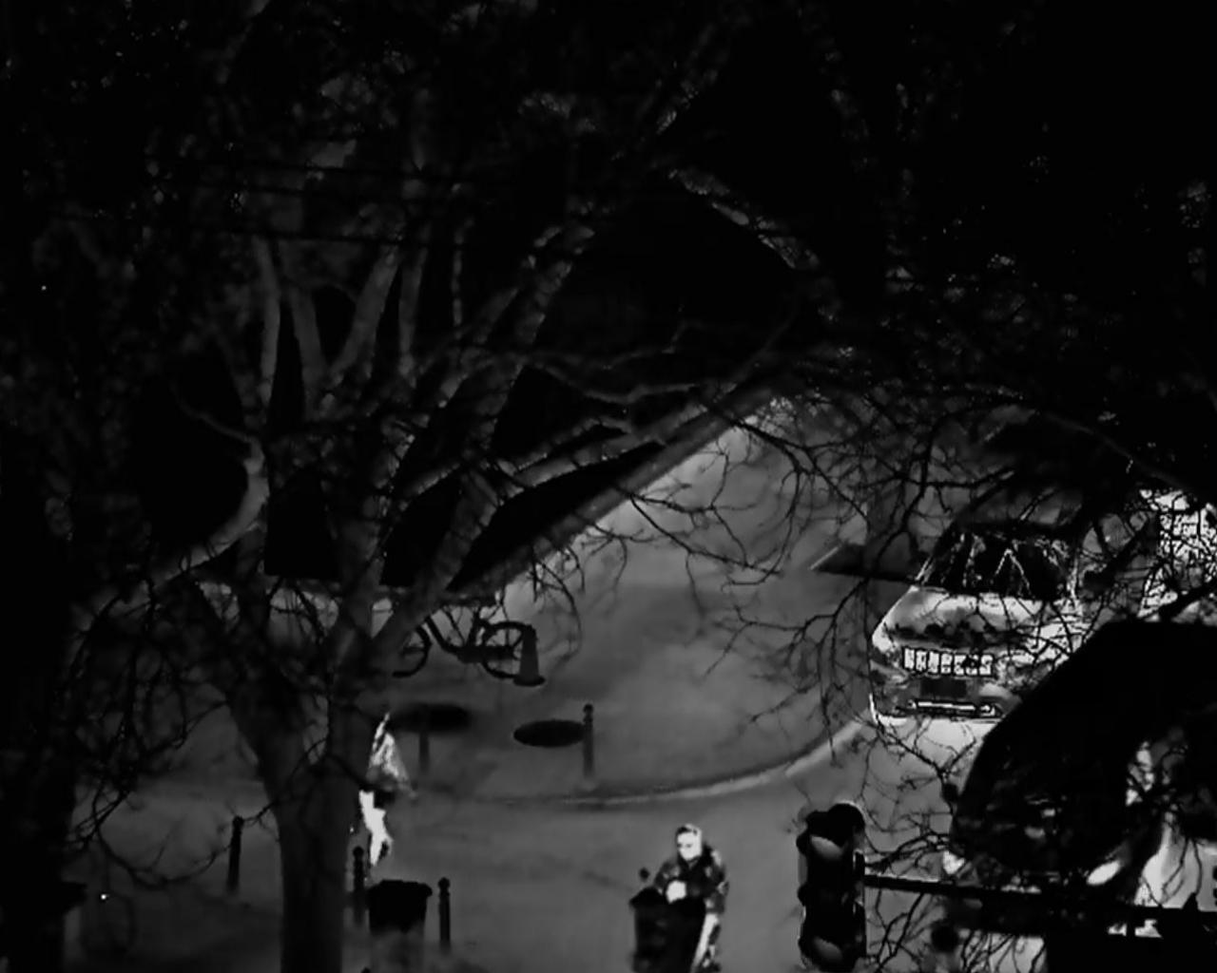person: (651, 823, 728, 973), (357, 710, 415, 870)
